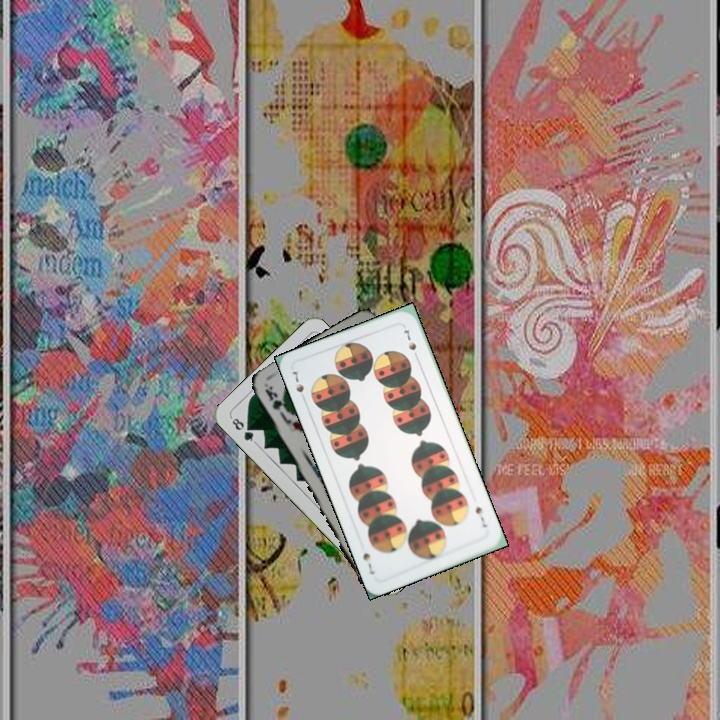G8: (227, 413, 259, 446)
GK: (261, 381, 290, 416)
S7: (288, 367, 307, 395), (471, 502, 490, 530)
